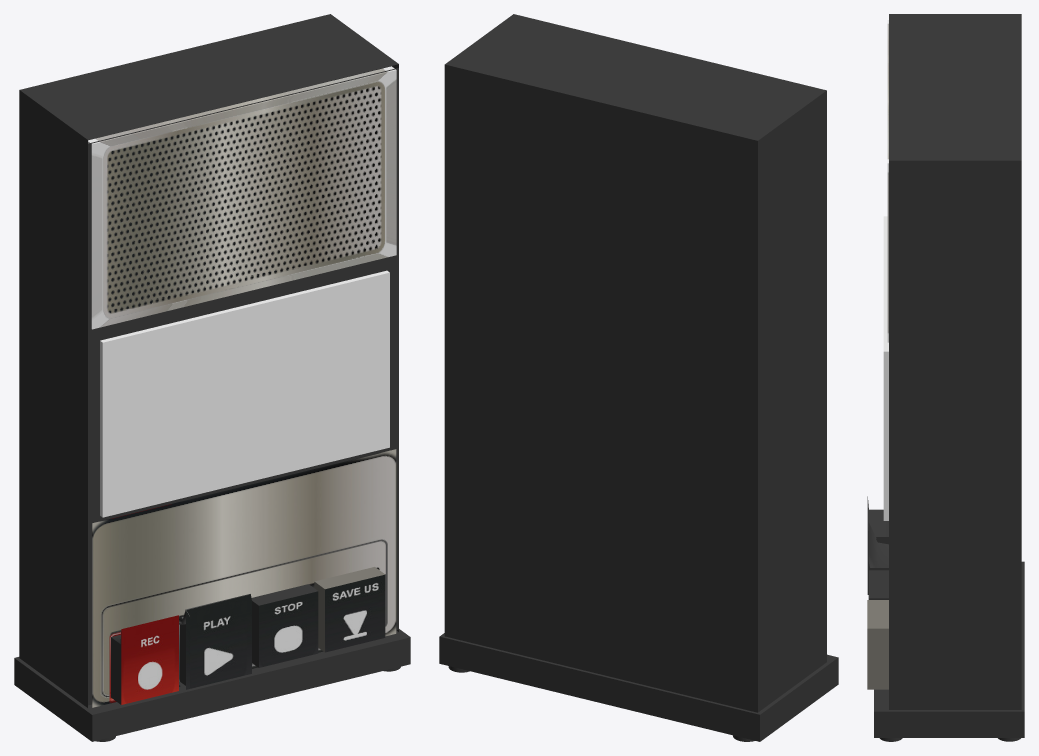
File: Old_Recorder.fbx
3 renders of one model, left to right at view 1: azimuth 30°, elevation 25°; view 2: azimuth 150°, elevation 25°; view 3: azimuth 270°, elevation 25°, orthographic. The views are drawn at different scales.
Visible parts, largest first — view 1: pasted__polySurface1 (×2), polySurface2, polySurface1, pCube7, play_cp, record_cp, save_cp, stop_cp; view 2: polySurface2, pCube7; view 3: polySurface2, pCube7, save_cp, pasted__polySurface1, play_cp, record_cp, polySurface1, stop_cp.
Part boxes in pixels (x1=…): pasted__polySurface1 (×2): x1=92, y1=270, x2=396, y2=707; polySurface2: x1=19, y1=14, x2=398, y2=707; polySurface1: x1=88, y1=66, x2=396, y2=329; pCube7: x1=14, y1=629, x2=410, y2=741; play_cp: x1=179, y1=594, x2=251, y2=689; record_cp: x1=111, y1=615, x2=178, y2=704; save_cp: x1=314, y1=567, x2=385, y2=652; stop_cp: x1=251, y1=584, x2=318, y2=667; polySurface2: x1=444, y1=14, x2=826, y2=712; pCube7: x1=439, y1=633, x2=838, y2=741; polySurface2: x1=889, y1=14, x2=1021, y2=709; pCube7: x1=874, y1=561, x2=1024, y2=737; save_cp: x1=867, y1=600, x2=888, y2=689; pasted__polySurface1: x1=883, y1=216, x2=888, y2=520; play_cp: x1=868, y1=522, x2=888, y2=599; record_cp: x1=867, y1=496, x2=888, y2=594; polySurface1: x1=887, y1=20, x2=888, y2=342; stop_cp: x1=869, y1=570, x2=888, y2=599.
Bounding box in the file's own units: 13.72 × 24.78 × 6.06.
